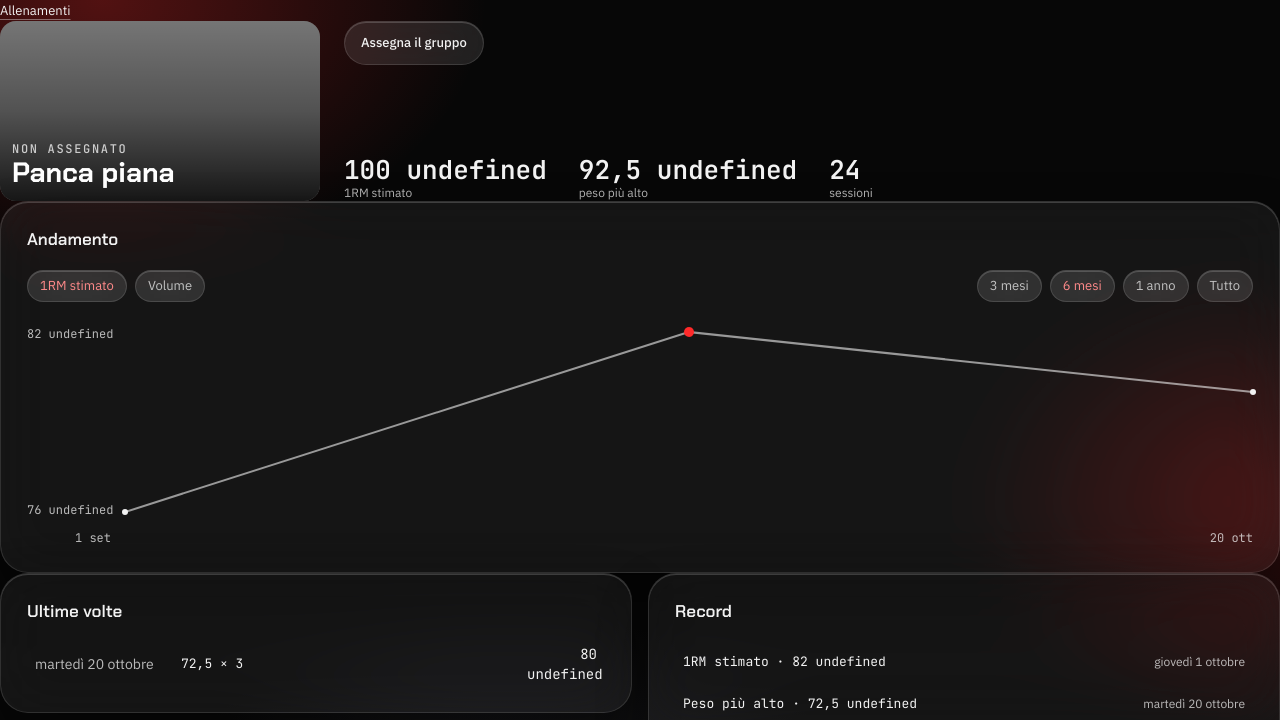
it: ExercisePage › se il gruppo non si salva il dialog resta aperto con l errore
Click the button "Assegna il gruppo".
click(414, 43)  # box left=344, top=21, right=484, bottom=65
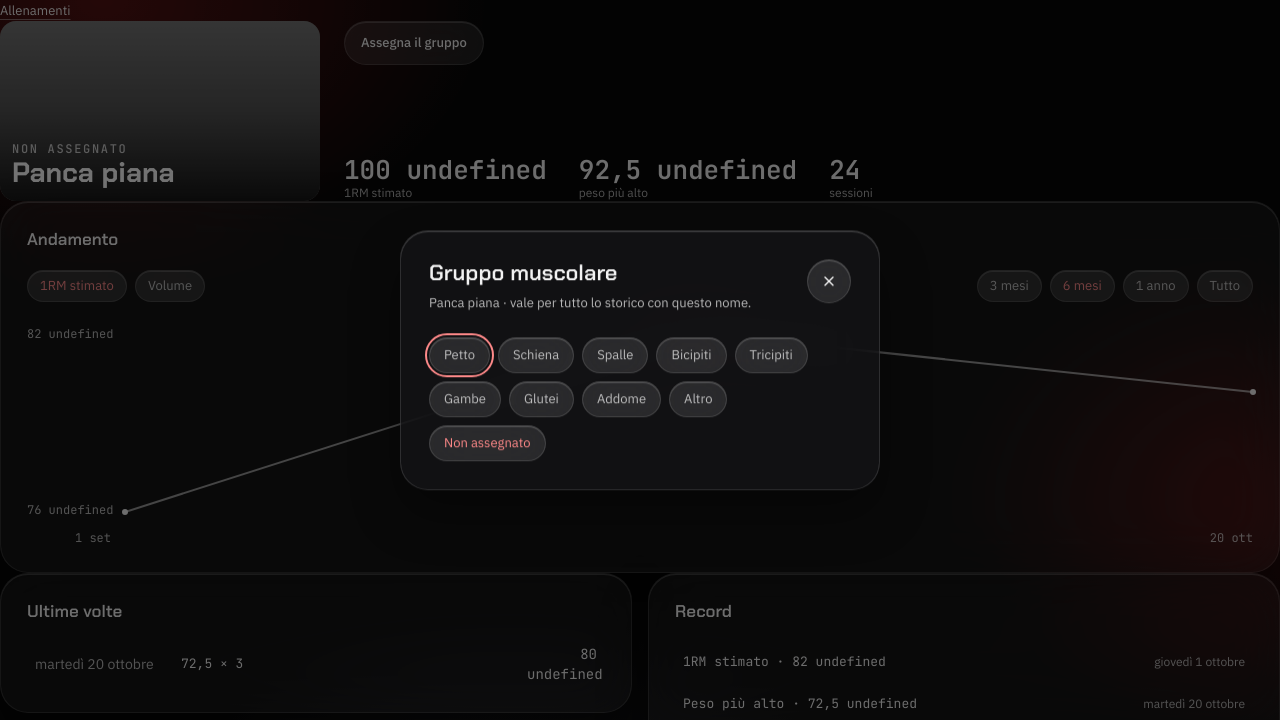
Click the radio button labelled "Gambe".
click(465, 399)  # box left=429, top=381, right=501, bottom=417
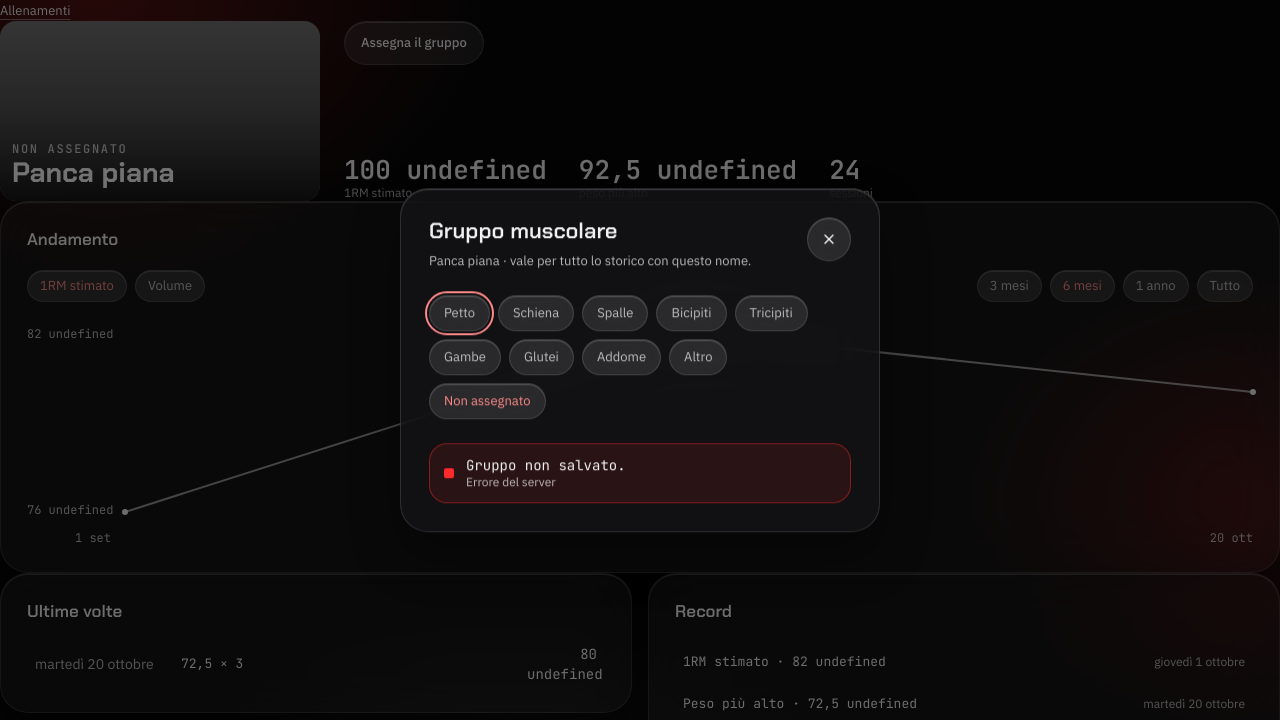
Result: the dialog is shown at left=400, top=188, right=880, bottom=532
Result: the text "Gruppo non salvato." is shown at left=466, top=456, right=626, bottom=474
